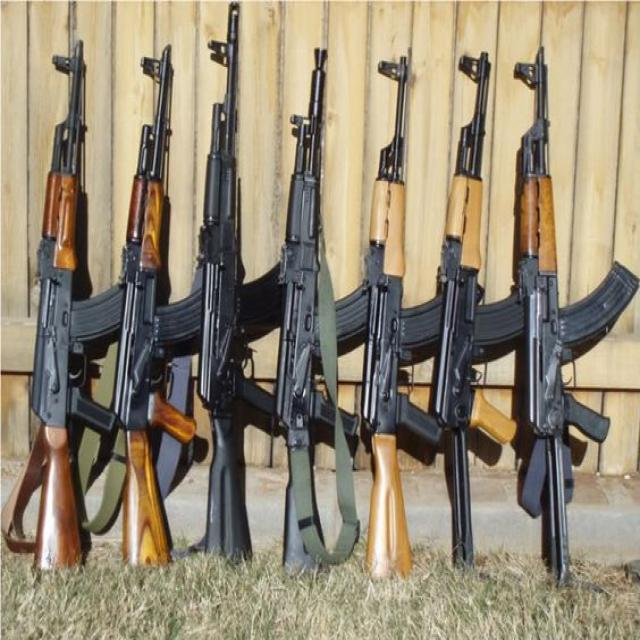ak: (509, 40, 640, 587), (24, 33, 127, 580), (272, 44, 372, 576), (100, 53, 204, 563), (352, 58, 451, 578), (199, 2, 287, 574), (436, 52, 530, 568)
